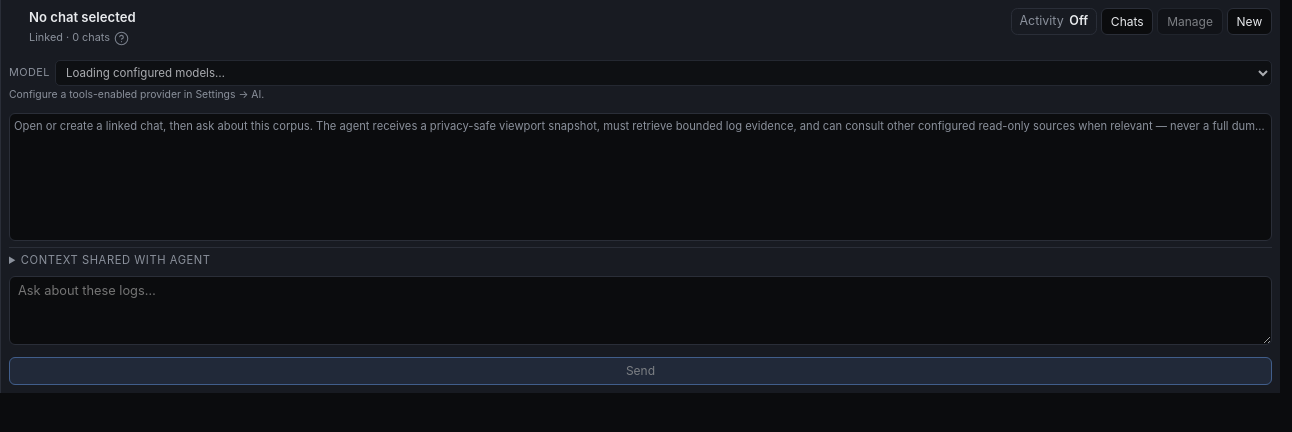
Scenario: LinkedChatRail › stops before the first turn when governed linked-chat creation fails
The width and height of the screenshot is (1292, 432).
In the text box named "Chat message": (640, 310) [9, 276, 1272, 345], type "Investigate this corpus"
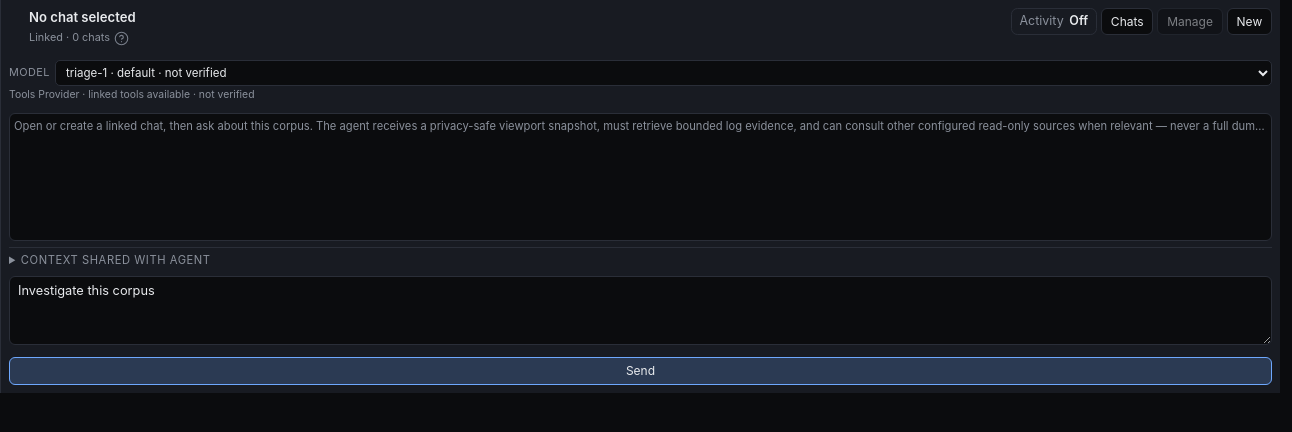
Press Enter in the text box named "Chat message", box [9, 276, 1272, 345]
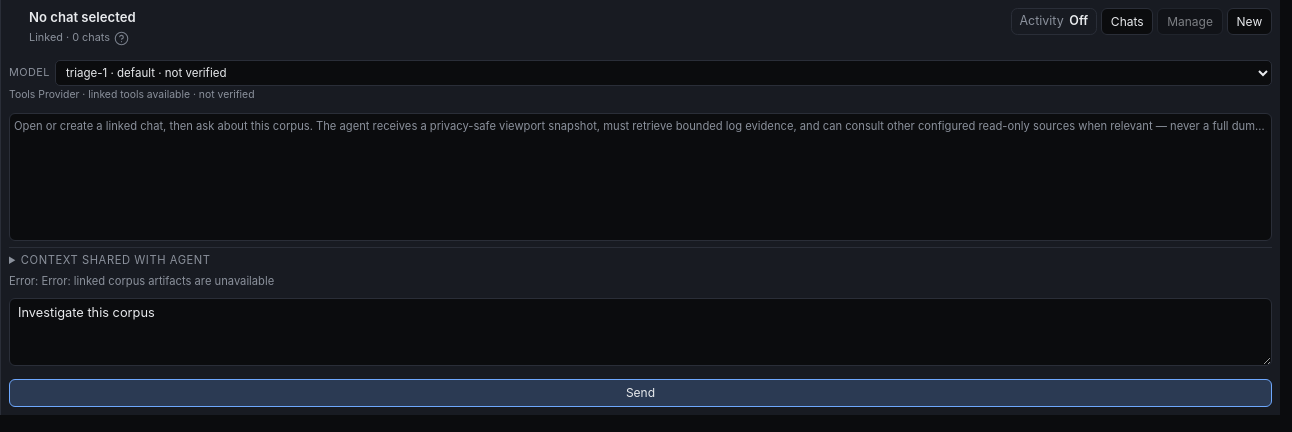
Expected: the text "No chat selected" is shown, [29, 9, 136, 25]
Result: the text "Error: Error: linked corpus artifacts are unavailable" is shown at [9, 273, 274, 290]
